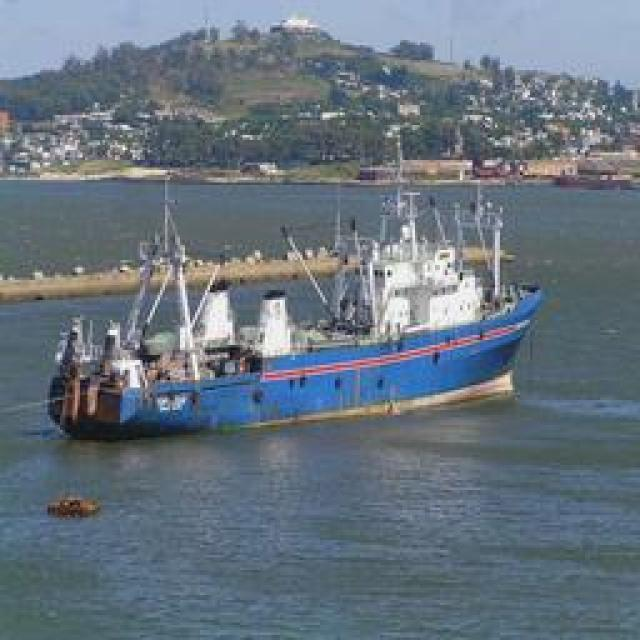CIV_Ship: (40, 194, 548, 446)
